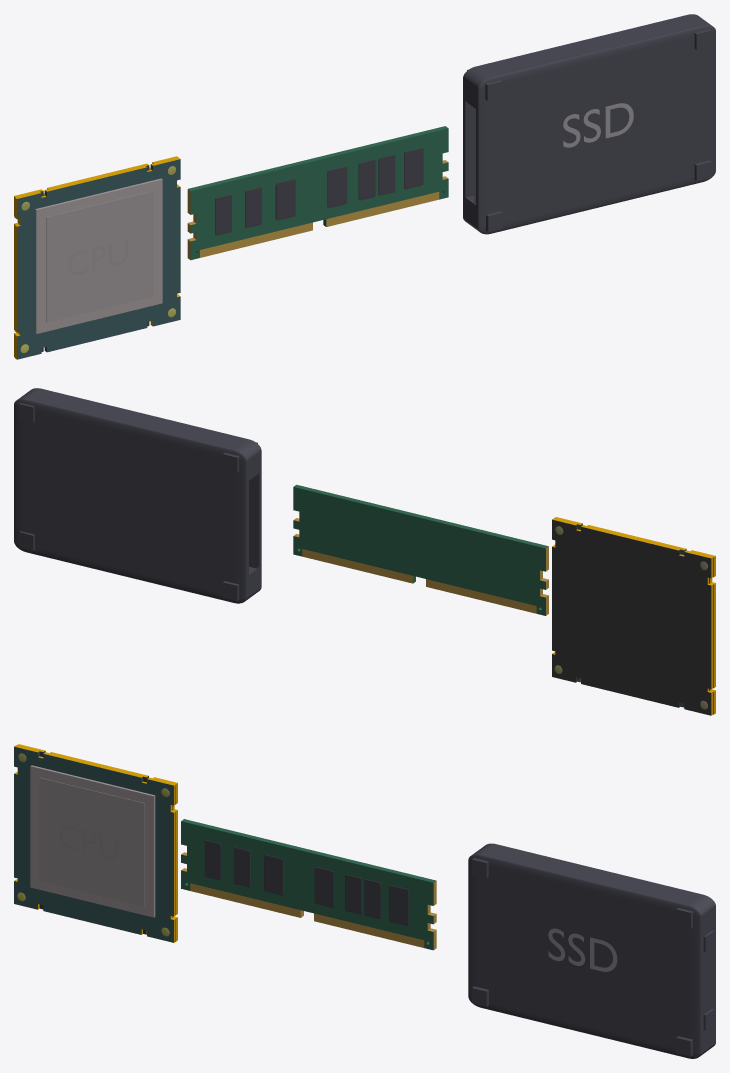
The model's file is cpuramssd.glb.
The picture shows the model from 3 angles, top to bottom: view 1: azimuth 30°, elevation 25°; view 2: azimuth 150°, elevation 25°; view 3: azimuth 330°, elevation 25°; orthographic projection. The views are drawn at different scales.
Parts seen in each view (by area): view 1: ssd, cpu, ram, ssdtext, cputext; view 2: ssd, cpu, ram; view 3: ssd, cpu, ram, ssdtext, cputext.
Part boxes in pixels (bbox=[...]): ssd: bbox=[463, 14, 715, 234]; cpu: bbox=[14, 156, 180, 359]; ram: bbox=[187, 126, 448, 260]; ssdtext: bbox=[563, 103, 633, 147]; cputext: bbox=[67, 239, 128, 275]; ssd: bbox=[14, 388, 261, 603]; cpu: bbox=[552, 517, 715, 715]; ram: bbox=[293, 484, 548, 615]; ssd: bbox=[468, 843, 715, 1058]; cpu: bbox=[14, 744, 177, 942]; ram: bbox=[181, 819, 436, 950]; ssdtext: bbox=[548, 928, 617, 971]; cputext: bbox=[59, 825, 118, 859].
Size of the model in its own units: 1.85 by 0.414 by 0.0993.
